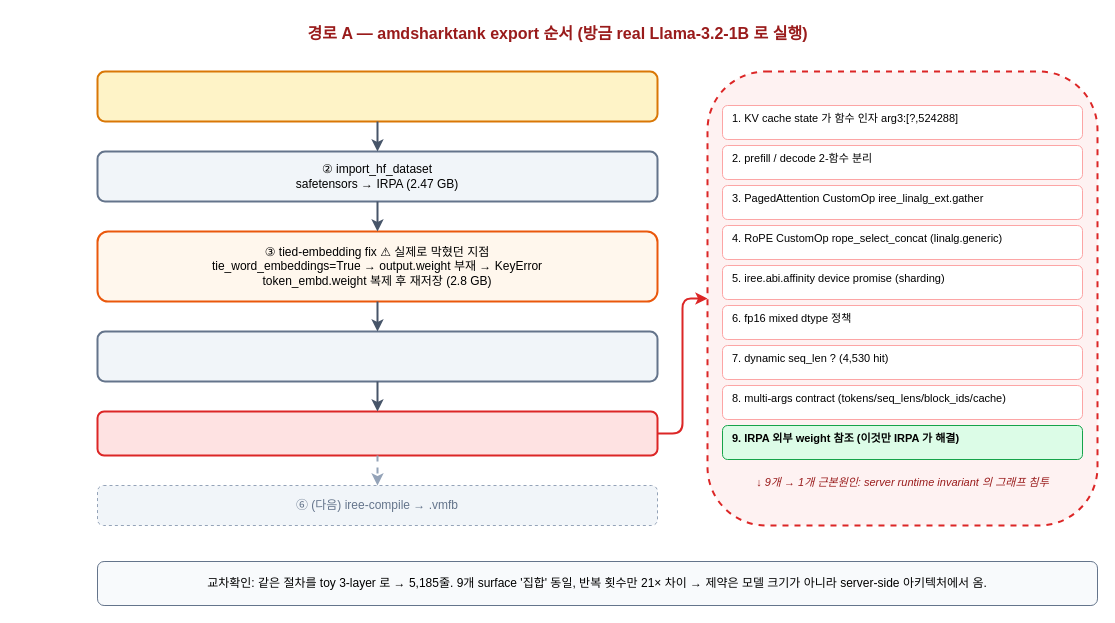
The diagram is 1115 pixels wide and 623 high, and some of its shapes have lost their labels. The box of each missing label's shape, as (x1, y1, x2, y2) in pixels:
9개 제약 surface (모두 forward 그래프에 박혀 나옴): (706, 70, 1098, 526)
① HF 모델 다운로드 meta-llama/Llama-3.2-1B-Instruct (model.safetensors, 캐시): (96, 70, 658, 122)
④ export_paged_llm_v1 IRPA → MLIR — 27,269줄 (prefill_bs1 + decode_bs1): (96, 330, 658, 382)
⑤ grep 분석 → 9개 제약 surface 확인 (오른쪽): (96, 410, 658, 456)
